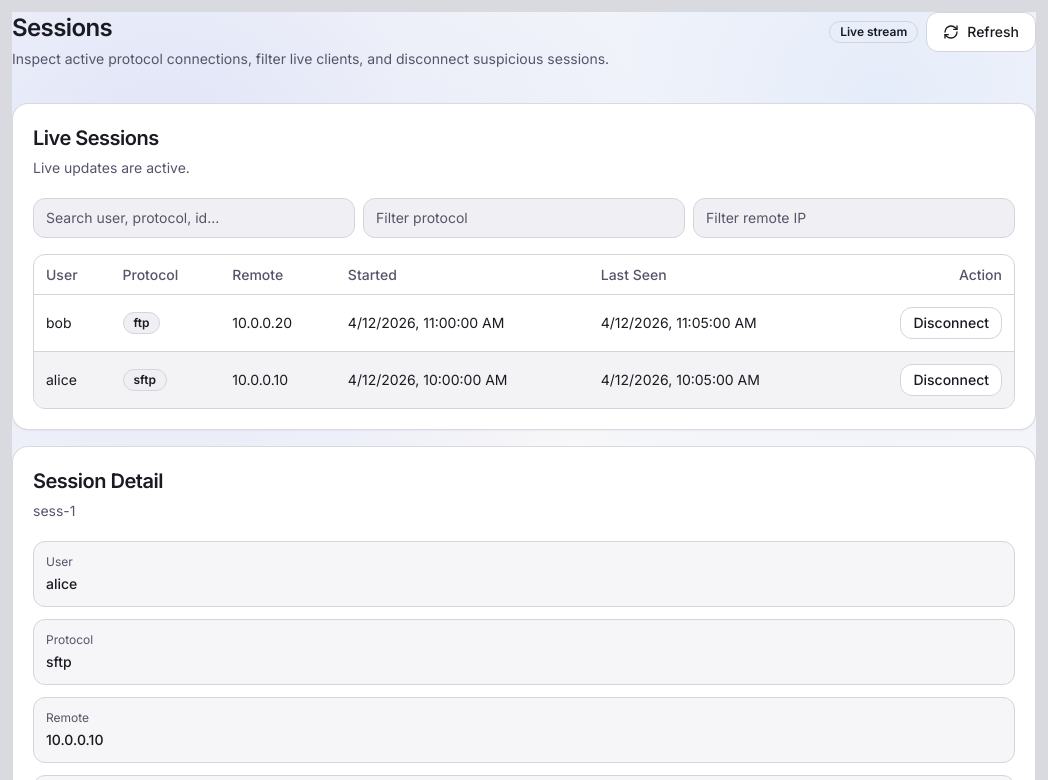
Scenario: SessionsPage › filters sessions by query text
Expected: the cell "alice" is shown, [34,352,110,408]
In the field with placeholder "Search user, protocol, id...": (194, 218) [33,198,355,238], type "bob"
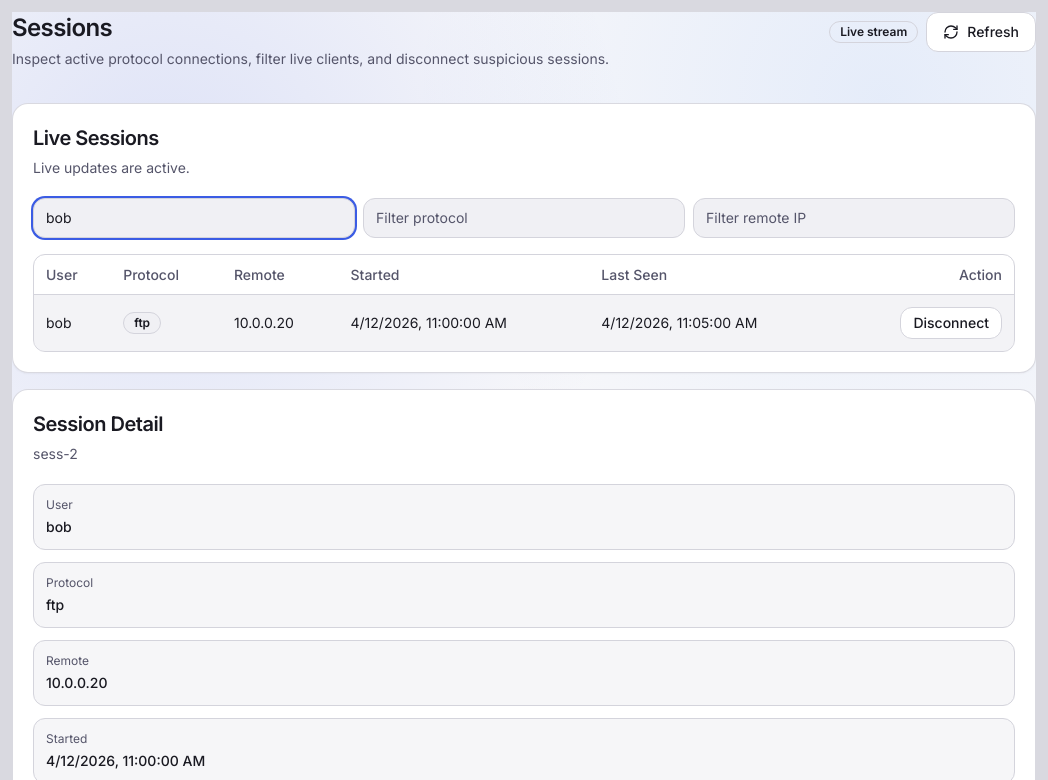
Expected: the cell "bob" is shown, [34,295,111,351]
Now the cell "alice" is gone
